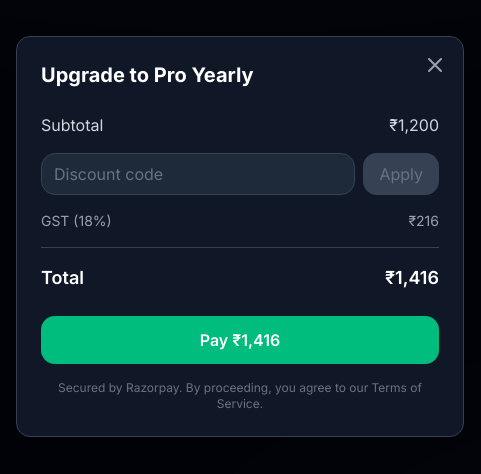
CheckoutModal › discount code › should display applied discount
Type "SAVE50" into the field with placeholder "Discount code" at (198, 174), box [41, 152, 355, 194]
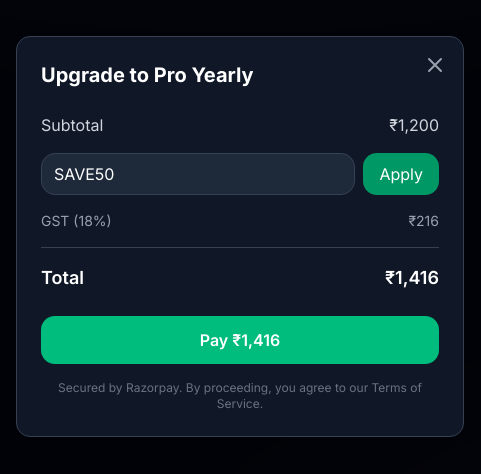
Click the button "Apply" at (401, 174), box [363, 152, 439, 194]
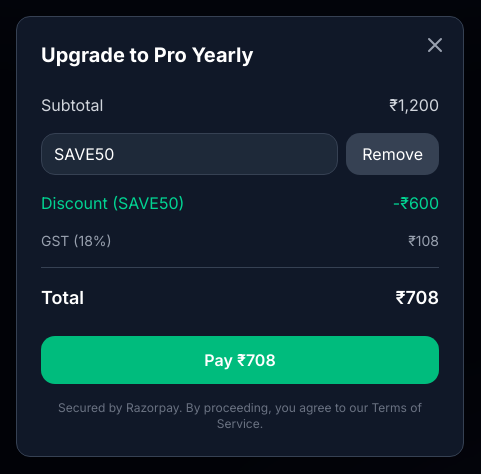
Now the text "Discount (SAVE50)" is shown, box [41, 190, 184, 214]
